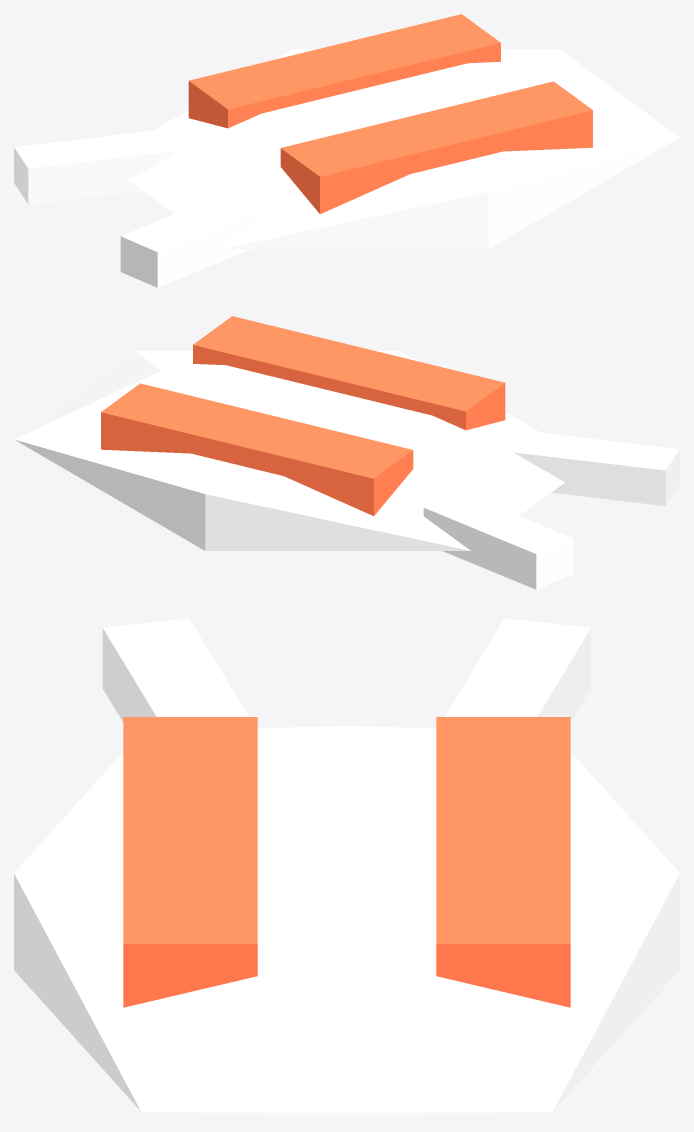
The model's file is trash-bag-2.glb.
3 renders of one model, top to bottom at view 1: azimuth 30°, elevation 25°; view 2: azimuth 150°, elevation 25°; view 3: azimuth 270°, elevation 25°, orthographic. The views are drawn at different scales.
Visible parts, largest first — view 1: trash-bag-2; view 2: trash-bag-2; view 3: trash-bag-2.
Part boxes in pixels (left/top/right/bottom): trash-bag-2: left=14, top=14, right=679, bottom=287; trash-bag-2: left=14, top=316, right=679, bottom=589; trash-bag-2: left=14, top=618, right=679, bottom=1117.
Size of the model in its own units: 0.9581 by 0.1674 by 0.5955.
